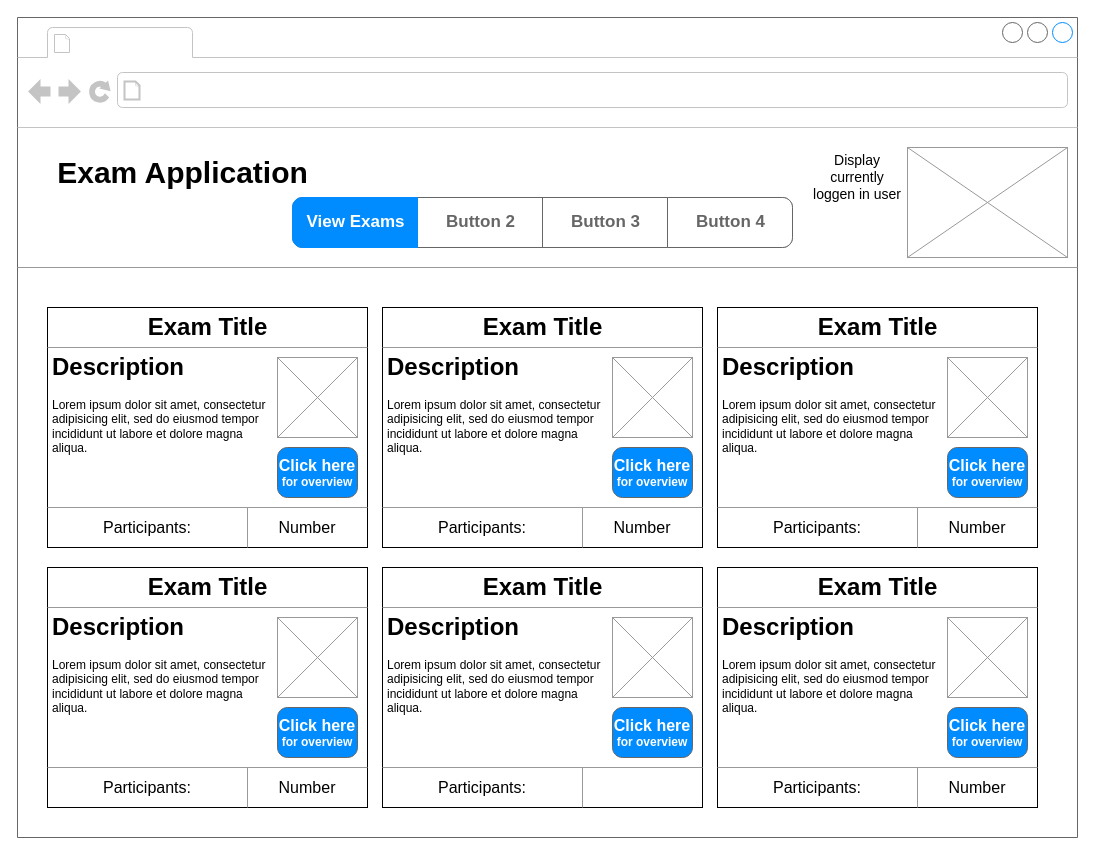
The diagram is 1095 pixels wide and 855 high, and some of its shapes have lost their labels. Here are the shapes that lost their labels. From the top down, the centre of each, then its label:
At point 132,42: "Page 1".
At point 272,90: "https://www.default.com".
